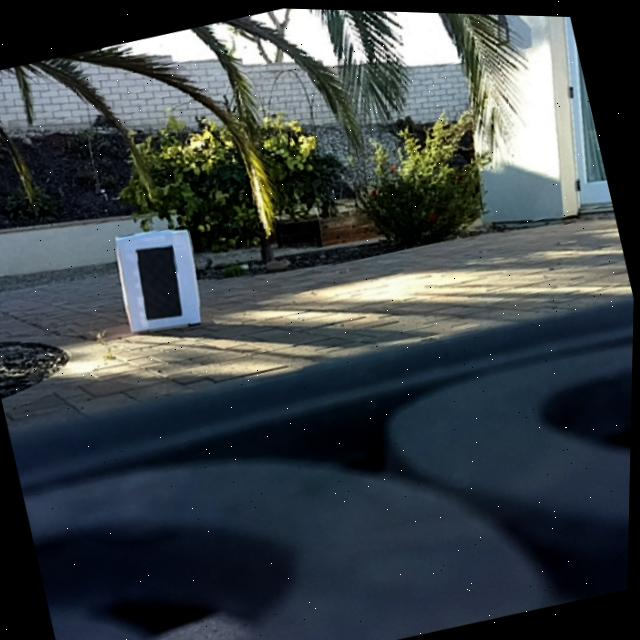led: (132, 239, 187, 322)
